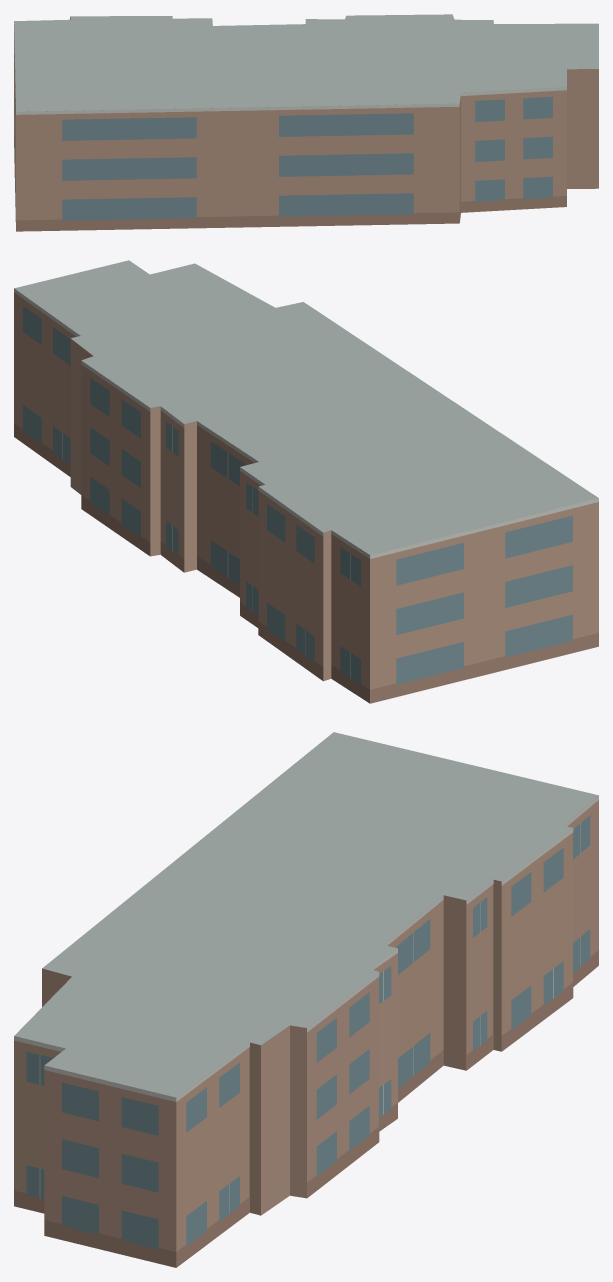
File: survey-upis-32838422.glb
3 views of the same model, one above another, from view 1: azimuth 30°, elevation 25°; view 2: azimuth 150°, elevation 25°; view 3: azimuth 270°, elevation 25° (orthographic). The views are drawn at different scales.
Visible parts, largest first — view 1: survey-upis-32838422.tmp; view 2: survey-upis-32838422.tmp; view 3: survey-upis-32838422.tmp.
Boxes of the visible parts, <box> form: survey-upis-32838422.tmp: <box>14,14,598,231</box>; survey-upis-32838422.tmp: <box>14,260,598,703</box>; survey-upis-32838422.tmp: <box>14,732,598,1267</box>.
Bounding box in the file's own units: 42.13 × 9.15 × 28.48.
